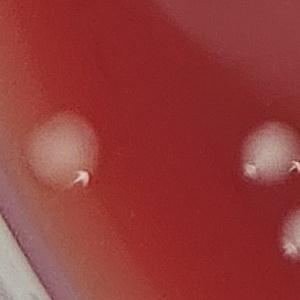colony: (12, 105, 106, 199), (230, 113, 300, 189), (272, 201, 300, 267)
